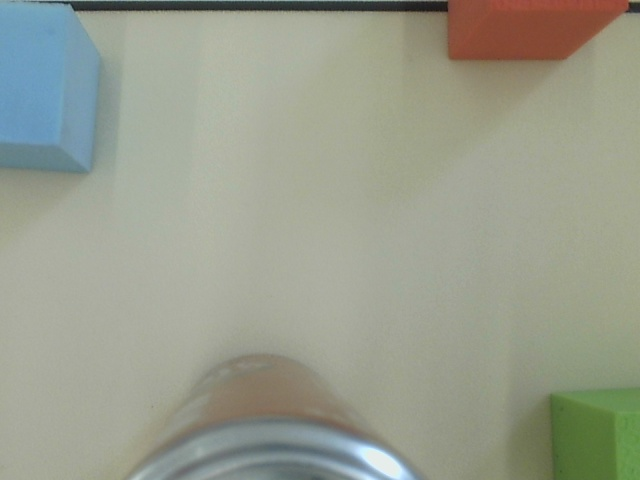bluecube: (1, 1, 108, 178)
cola: (122, 350, 436, 480)
greencube: (539, 379, 640, 480)
redcube: (438, 1, 635, 70)
